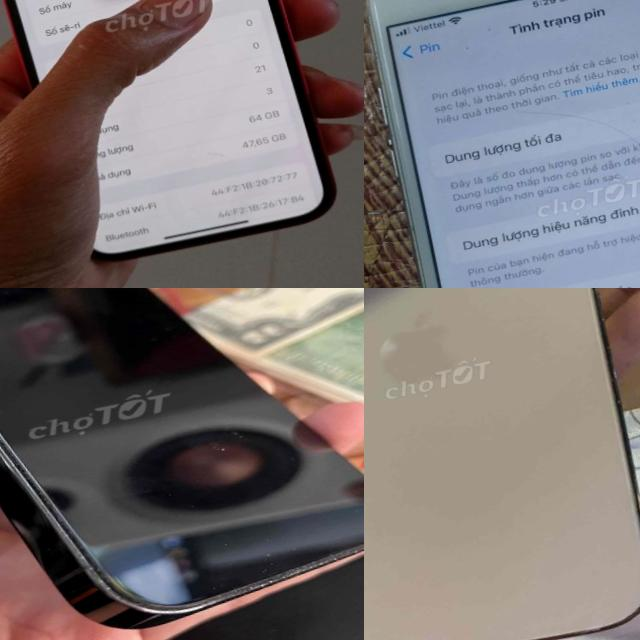scratch: (193, 527, 364, 612), (53, 499, 147, 640), (450, 10, 509, 53)
